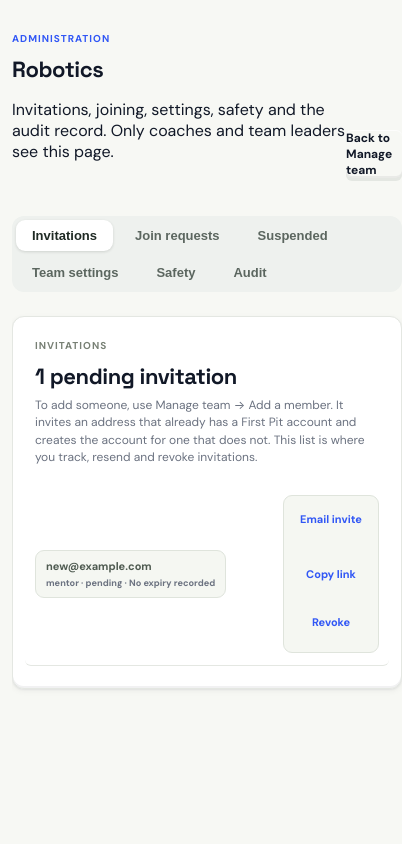
Test: AdministrationPage › shows join requests by display name rather than raw user id
Click the tab "Join requests": (177, 236) [119, 220, 236, 251]
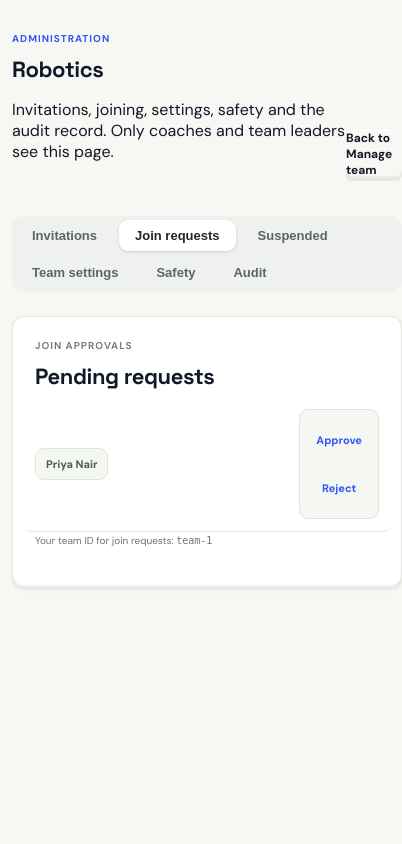
Now the text "Priya Nair" is shown, box [35, 448, 108, 480]
Now the button "Approve" is shown, box [310, 418, 368, 462]
